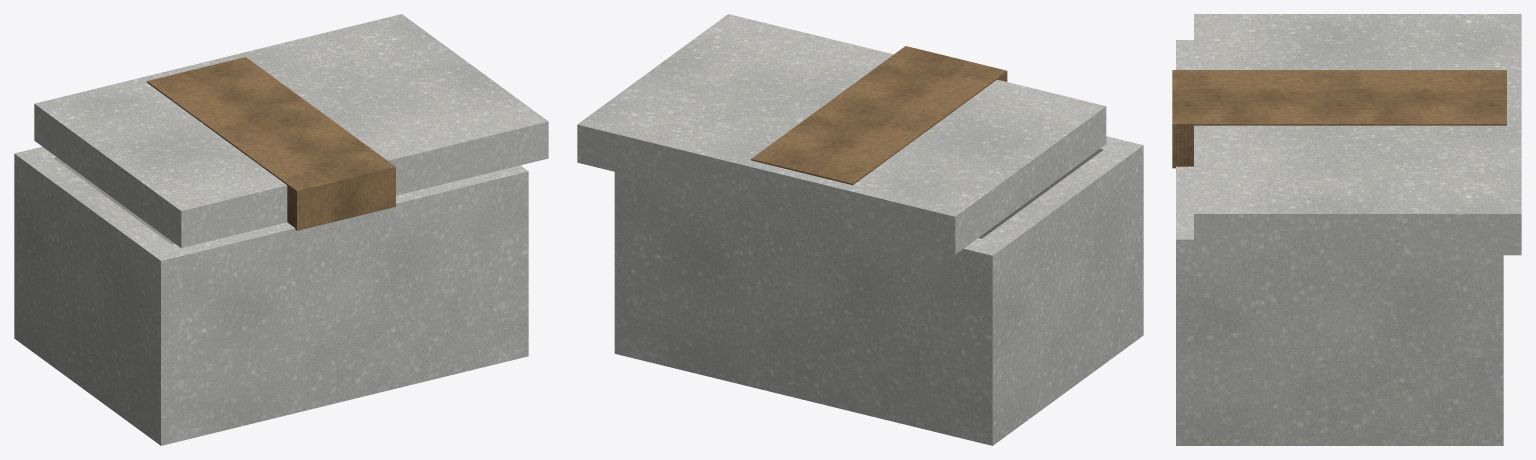
File: dry_ice_box.glb
The picture shows the model from 3 angles, left to right: view 1: azimuth 30°, elevation 25°; view 2: azimuth 150°, elevation 25°; view 3: azimuth 270°, elevation 25°; orthographic projection. The views are drawn at different scales.
Parts seen in each view (by area): view 1: dry_ice_box; view 2: dry_ice_box; view 3: dry_ice_box.
Boxes of the visible parts, x1,y1,x2,y2 form: dry_ice_box: [14, 14, 548, 445]; dry_ice_box: [577, 14, 1143, 445]; dry_ice_box: [1172, 14, 1521, 445].
Size of the model in its own units: 0.56 by 0.302 by 0.384.
Materials: 2 (2 with a texture image).
